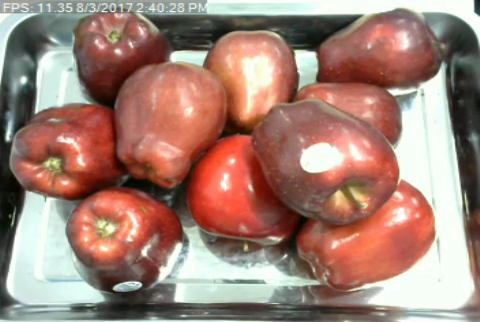Apple: (250, 96, 402, 227), (293, 175, 437, 294), (107, 60, 231, 188), (182, 131, 294, 250), (63, 187, 185, 293), (8, 102, 133, 200), (313, 6, 442, 97), (199, 26, 301, 130), (72, 7, 173, 101)
